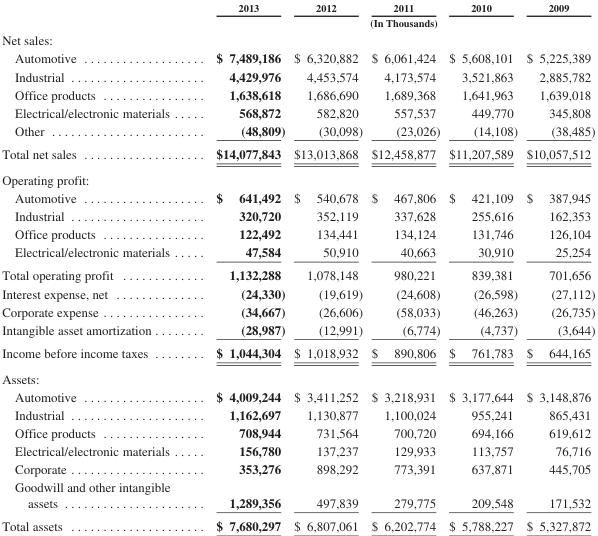table: (1, 1, 594, 532)
table column: (1, 1, 192, 532), (192, 1, 288, 532), (288, 1, 366, 532), (443, 1, 521, 532), (366, 1, 443, 532), (521, 1, 594, 532)
table column header: (1, 1, 594, 30)
table projected row header: (1, 166, 594, 188), (1, 365, 594, 387), (1, 30, 594, 48)
table row: (1, 477, 594, 513), (1, 141, 594, 166), (1, 340, 594, 365), (1, 166, 594, 188), (1, 365, 594, 387), (1, 242, 594, 263), (1, 121, 594, 141), (1, 263, 594, 283), (1, 320, 594, 340), (1, 84, 594, 103), (1, 283, 594, 302), (1, 513, 594, 532), (1, 30, 594, 48), (1, 48, 594, 66), (1, 66, 594, 84), (1, 103, 594, 121), (1, 188, 594, 206), (1, 206, 594, 224), (1, 224, 594, 242), (1, 302, 594, 320), (1, 387, 594, 405), (1, 405, 594, 423), (1, 423, 594, 441), (1, 441, 594, 459), (1, 459, 594, 477), (1, 14, 594, 30), (1, 1, 594, 14)
table spanning cell: (192, 14, 594, 30)
